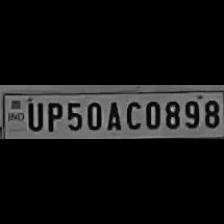0: (142, 98, 162, 130), (84, 99, 103, 131)
5: (62, 98, 82, 132)
8: (200, 97, 220, 129), (162, 98, 180, 130)
9: (182, 96, 200, 130)
A: (102, 98, 122, 132)
C: (122, 97, 142, 130)
P: (44, 98, 62, 132)
U: (24, 99, 42, 130)
